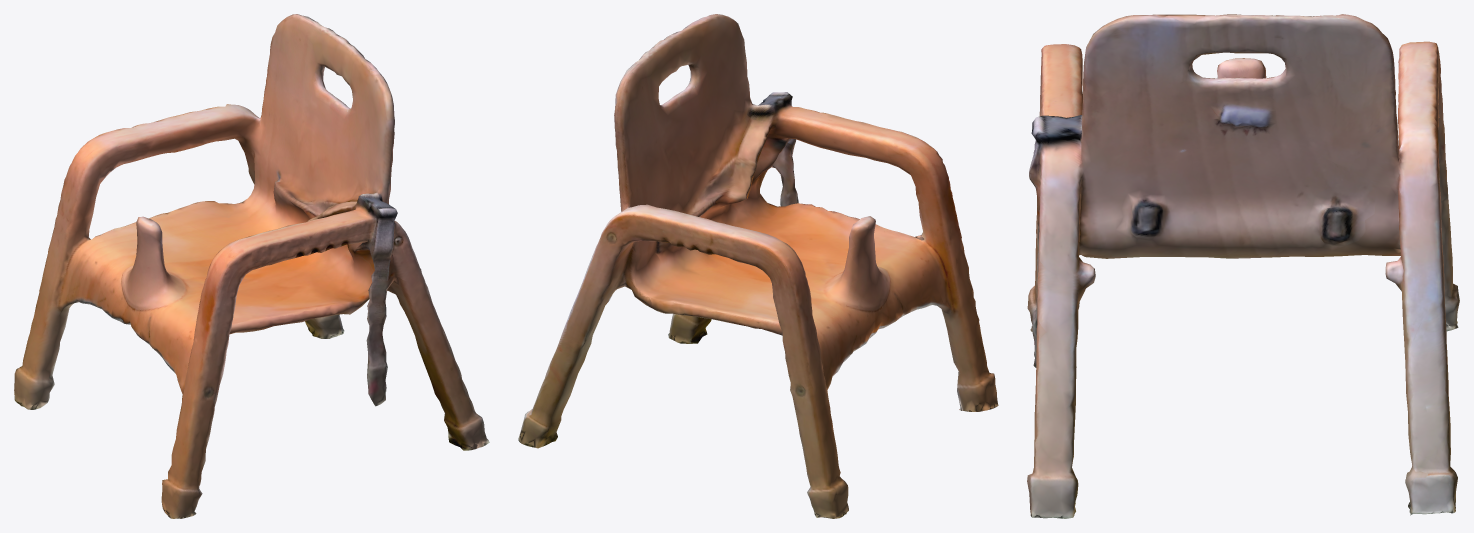
Rendered from chair.fbx.
3 renders of one model, left to right at view 1: azimuth 30°, elevation 25°; view 2: azimuth 150°, elevation 25°; view 3: azimuth 270°, elevation 25°, orthographic. The views are drawn at different scales.
Visible parts, largest first — view 1: textured; view 2: textured; view 3: textured.
Boxes of the visible parts, x1=… form: textured: x1=14, y1=14, x2=489, y2=518; textured: x1=518, y1=14, x2=998, y2=518; textured: x1=1027, y1=14, x2=1459, y2=518.
Size of the model in its own units: 21.49 by 23.2 by 19.51.
